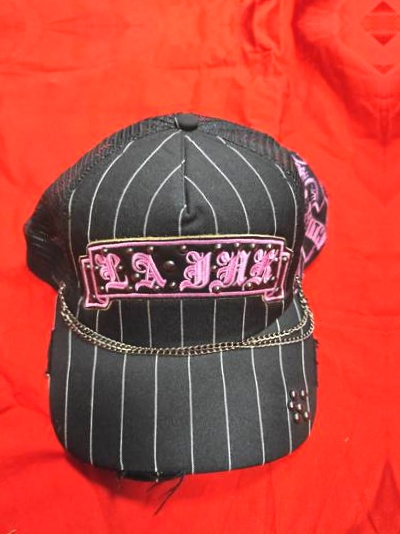Hat: (4, 116, 359, 474)
